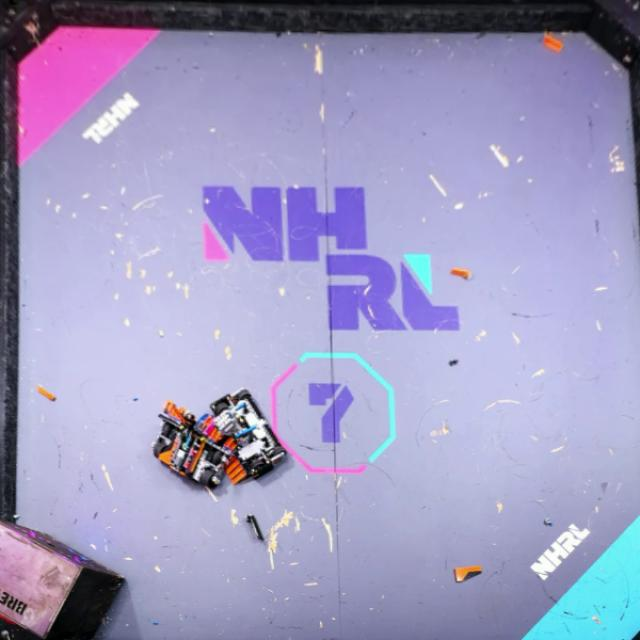housebot: (0, 521, 127, 640)
robot: (198, 389, 286, 487), (153, 401, 236, 488)
